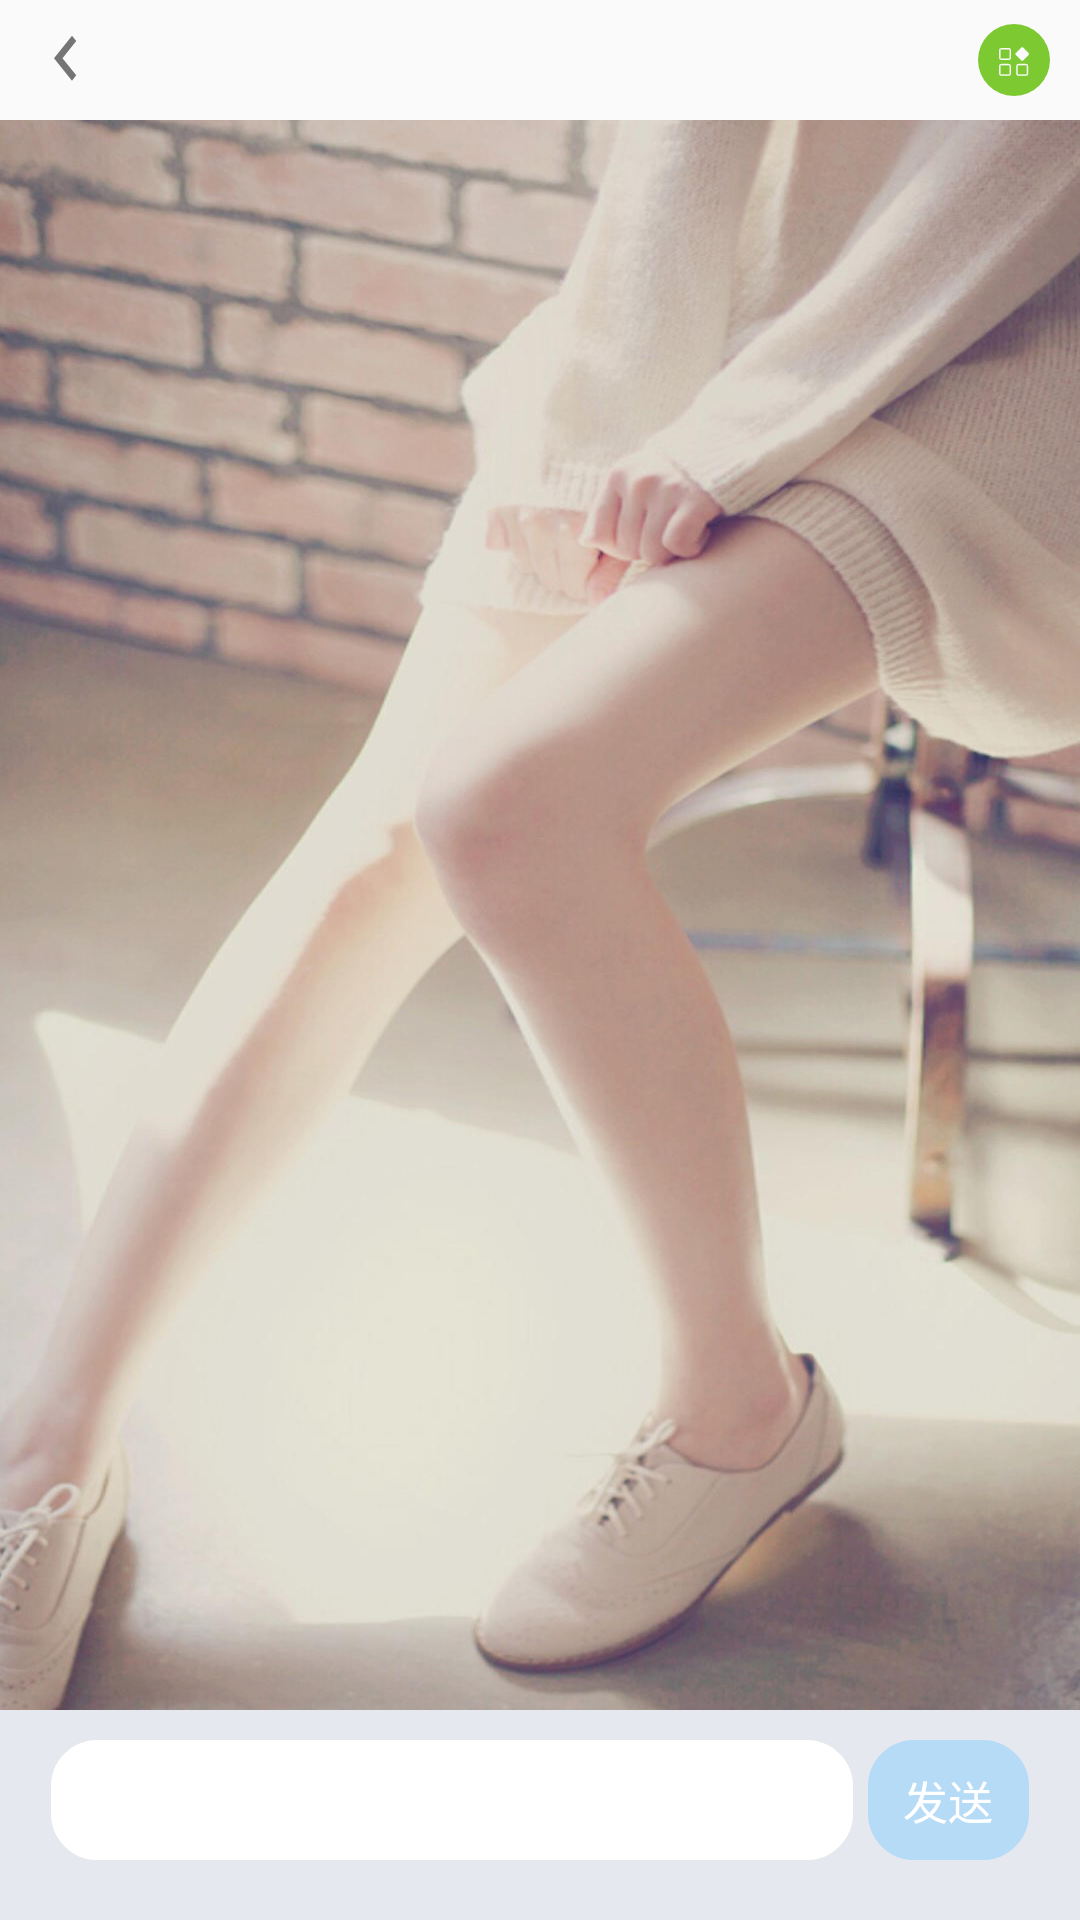

Where icons sit on this 1080 × 1920 app screen, as Rect(x1, y1, x2, y2):
back: Rect(54, 36, 76, 81)
chat more: Rect(978, 24, 1050, 96)
